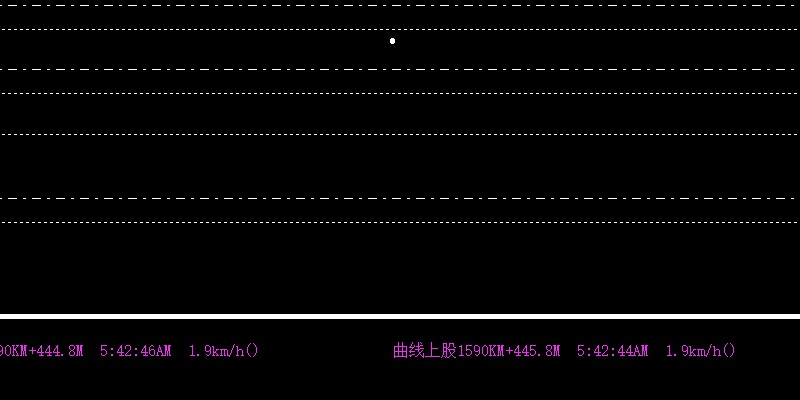face_down: (388, 24, 398, 45)
